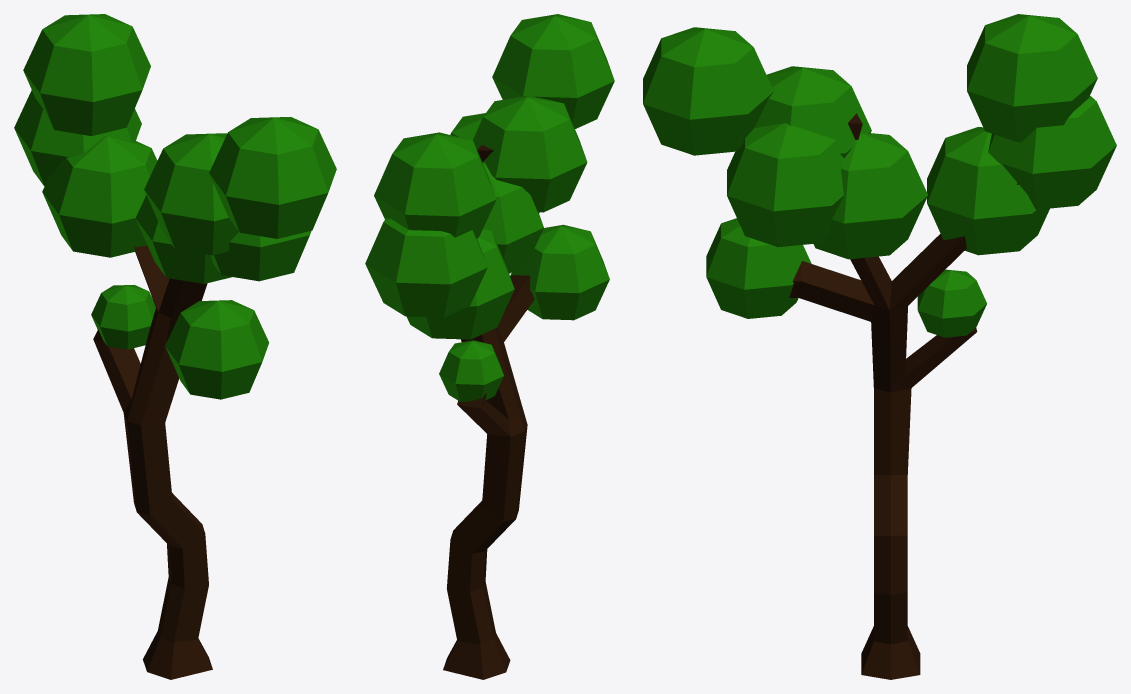
Rendered from tree_01.fbx.
3 renders of one model, left to right at view 1: azimuth 30°, elevation 25°; view 2: azimuth 150°, elevation 25°; view 3: azimuth 270°, elevation 25°, orthographic. The views are drawn at different scales.
Parts seen in each view (by area): view 1: Cube, Sphere.002, Sphere.010, Sphere.011, Sphere.013, Sphere, Sphere.012, Sphere.003, Sphere.014, Sphere.004; view 2: Cube, Sphere.010, Sphere.002, Sphere, Sphere.012, Sphere.013, Sphere.011, Sphere.004, Sphere.014, Sphere.003; view 3: Cube, Sphere.002, Sphere.010, Sphere.003, Sphere.011, Sphere.004, Sphere.012, Sphere.013, Sphere, Sphere.014.
Part boxes in pixels (bbox=[...]): Cube: bbox=[93, 245, 212, 679]; Sphere.002: bbox=[209, 117, 336, 238]; Sphere.010: bbox=[23, 14, 150, 136]; Sphere.011: bbox=[42, 136, 157, 257]; Sphere.013: bbox=[165, 300, 269, 399]; Sphere: bbox=[144, 133, 238, 255]; Sphere.012: bbox=[14, 90, 141, 186]; Sphere.003: bbox=[210, 230, 311, 281]; Sphere.014: bbox=[91, 285, 155, 349]; Sphere.004: bbox=[135, 195, 231, 283]; Cube: bbox=[443, 145, 534, 679]; Sphere.010: bbox=[374, 132, 496, 238]; Sphere.002: bbox=[492, 14, 614, 128]; Sphere: bbox=[473, 96, 587, 212]; Sphere.012: bbox=[365, 218, 487, 317]; Sphere.013: bbox=[510, 224, 609, 320]; Sphere.011: bbox=[406, 228, 514, 339]; Sphere.004: bbox=[483, 162, 543, 273]; Sphere.014: bbox=[439, 340, 503, 401]; Sphere.003: bbox=[450, 113, 539, 213]; Cube: bbox=[789, 113, 1018, 679]; Sphere.002: bbox=[643, 27, 773, 155]; Sphere.010: bbox=[967, 14, 1097, 142]; Sphere.003: bbox=[727, 123, 844, 247]; Sphere.011: bbox=[927, 127, 1049, 255]; Sphere.004: bbox=[813, 132, 928, 259]; Sphere.012: bbox=[988, 96, 1116, 209]; Sphere.013: bbox=[706, 218, 811, 318]; Sphere: bbox=[754, 66, 871, 157]; Sphere.014: bbox=[917, 269, 986, 337].
Size of the model in its own units: 1169 by 4157 by 2794.
